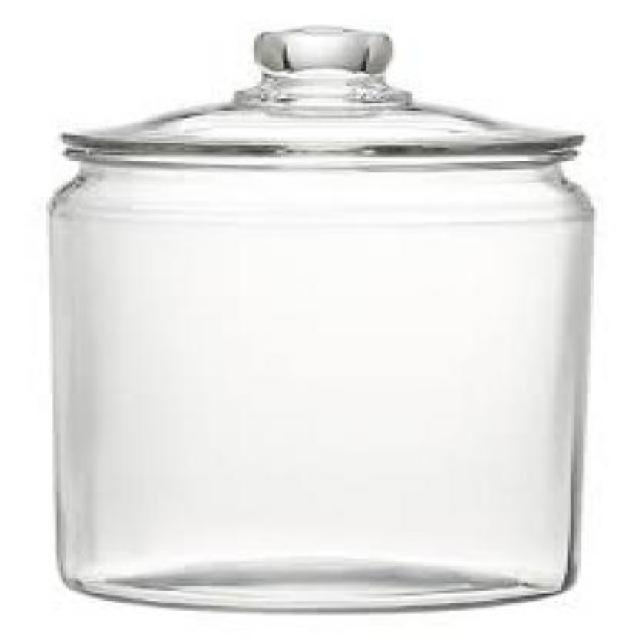kaca: (43, 22, 594, 610)
